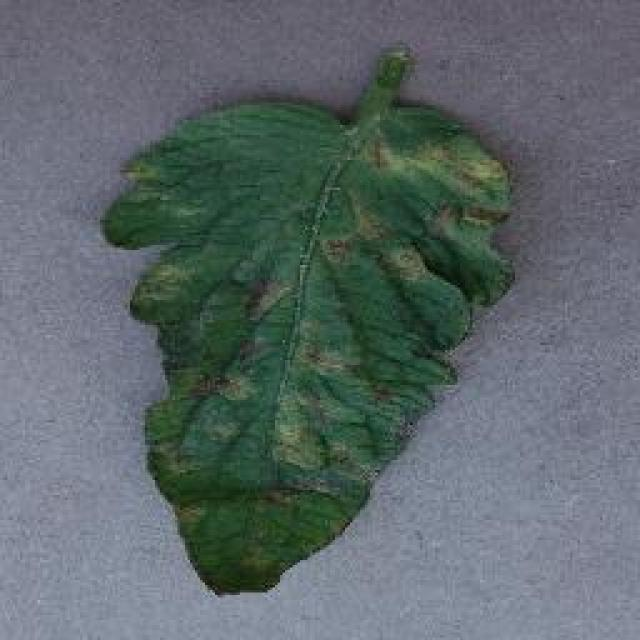leaf mold: (100, 51, 520, 588)
